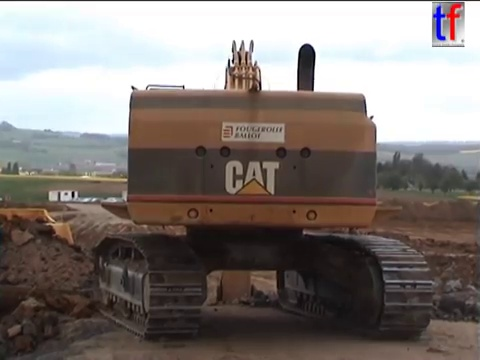excavator: (86, 36, 437, 343)
truck: (1, 204, 113, 360)
